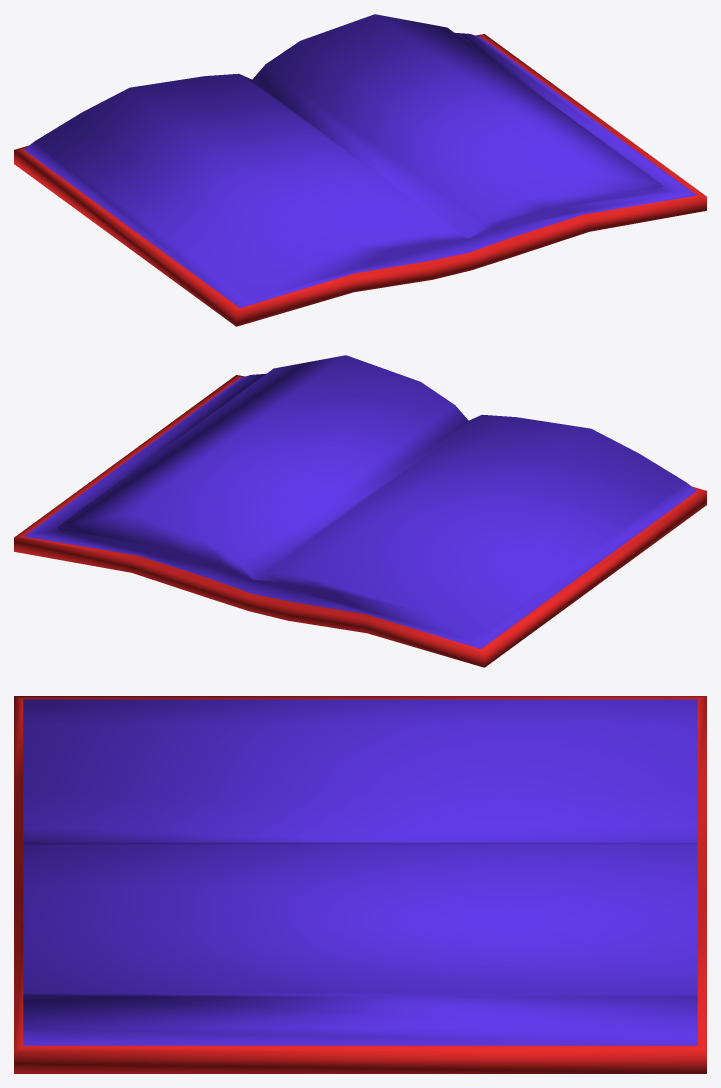
Rendered from Books_Open_01.fbx.
3 renders of one model, top to bottom at view 1: azimuth 30°, elevation 25°; view 2: azimuth 150°, elevation 25°; view 3: azimuth 270°, elevation 25°, orthographic. The views are drawn at different scales.
Visible parts, largest first — view 1: Book_Open_01; view 2: Book_Open_01; view 3: Book_Open_01.
Part boxes in pixels (bbox=[...]): Book_Open_01: bbox=[14, 14, 706, 326]; Book_Open_01: bbox=[14, 355, 706, 667]; Book_Open_01: bbox=[14, 696, 706, 1073].
Size of the model in its own units: 0.579 by 0.4739 by 0.0772.
